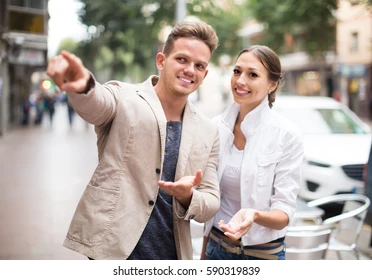pointing_gesture: (47, 49, 90, 95), (215, 206, 257, 241), (156, 171, 207, 198)
